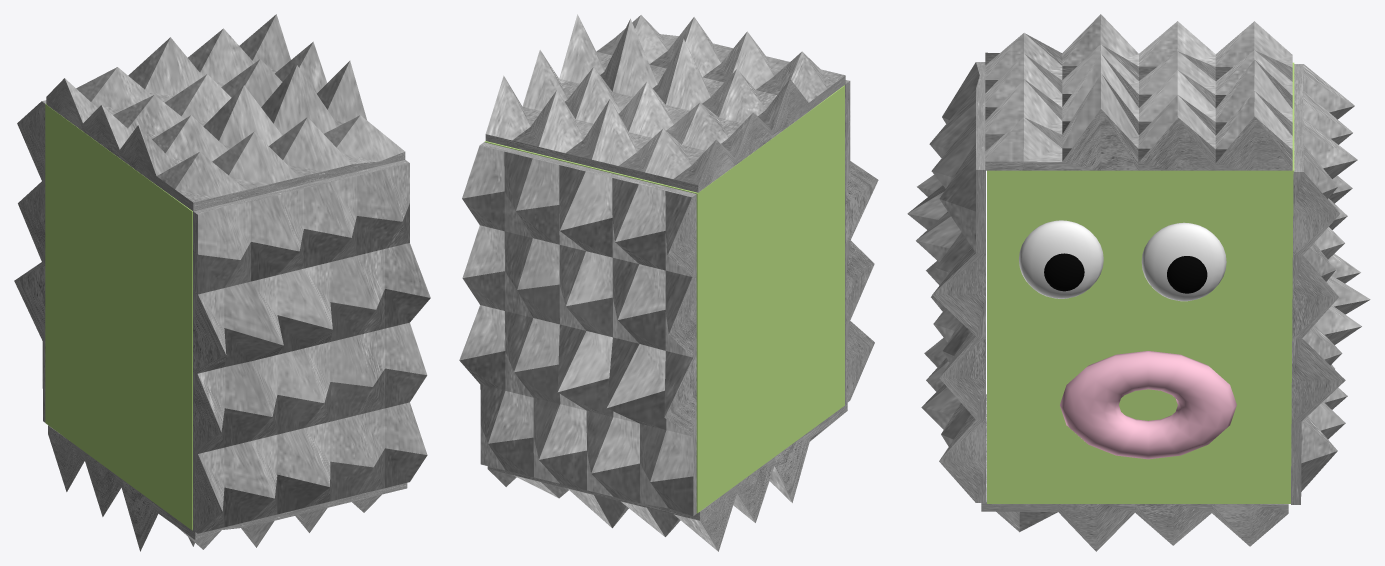
The model's file is rock.fbx.
3 views of the same model, side by side, from view 1: azimuth 30°, elevation 25°; view 2: azimuth 150°, elevation 25°; view 3: azimuth 270°, elevation 25° (orthographic). The views are drawn at different scales.
Parts seen in each view (by area): view 1: Rock; view 2: Rock; view 3: Rock.
Part boxes in pixels (x1,y1,x2,y2): Rock: [14, 14, 430, 551]; Rock: [459, 14, 878, 551]; Rock: [907, 14, 1370, 551].
Bounding box in the file's own units: 668 × 1170 × 1035.
